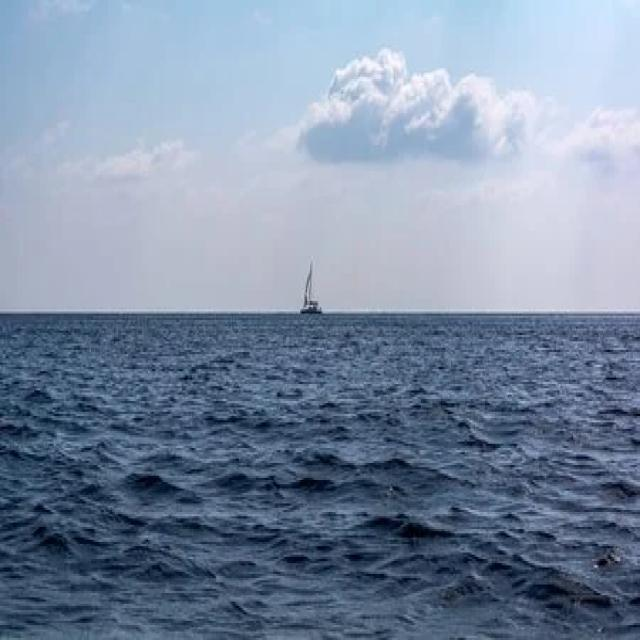fishing boat: (299, 253, 327, 314)
